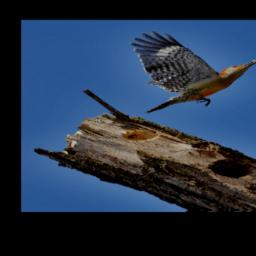Woodpecker: (127, 30, 256, 115)
